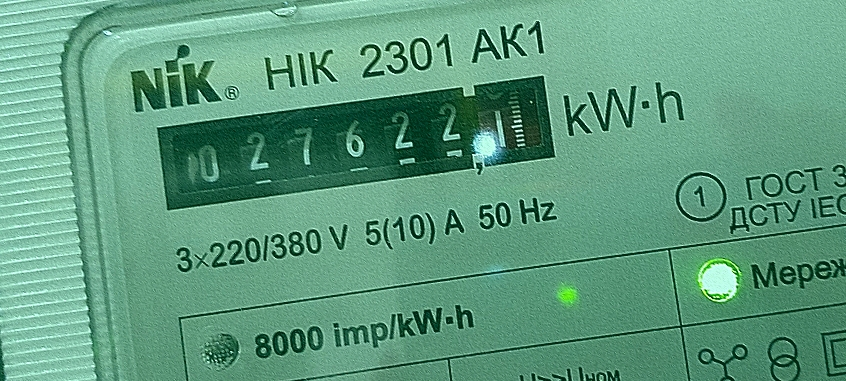0: (194, 141, 223, 186)
1: (489, 106, 510, 151)
2: (386, 108, 416, 152), (243, 129, 271, 174), (436, 100, 463, 144)
6: (340, 118, 367, 161)
7: (291, 125, 320, 170)
screen: (143, 64, 570, 219)
